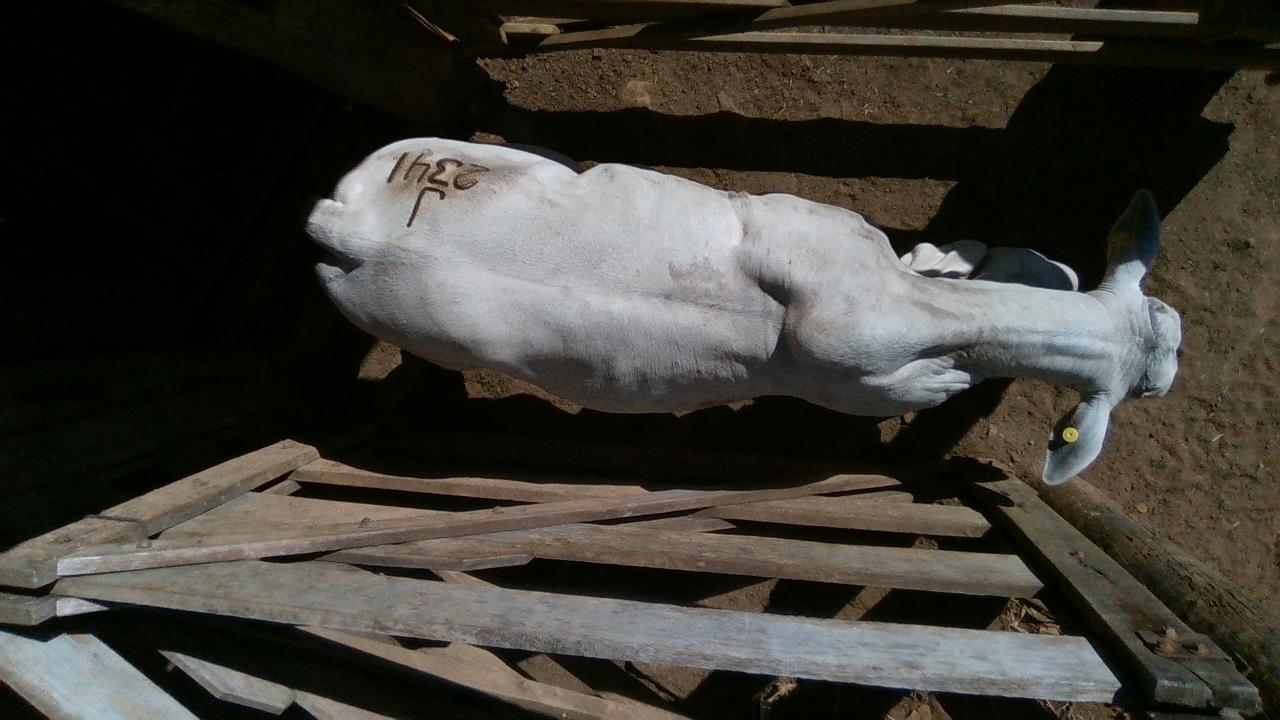cattle: (303, 134, 1184, 486)
